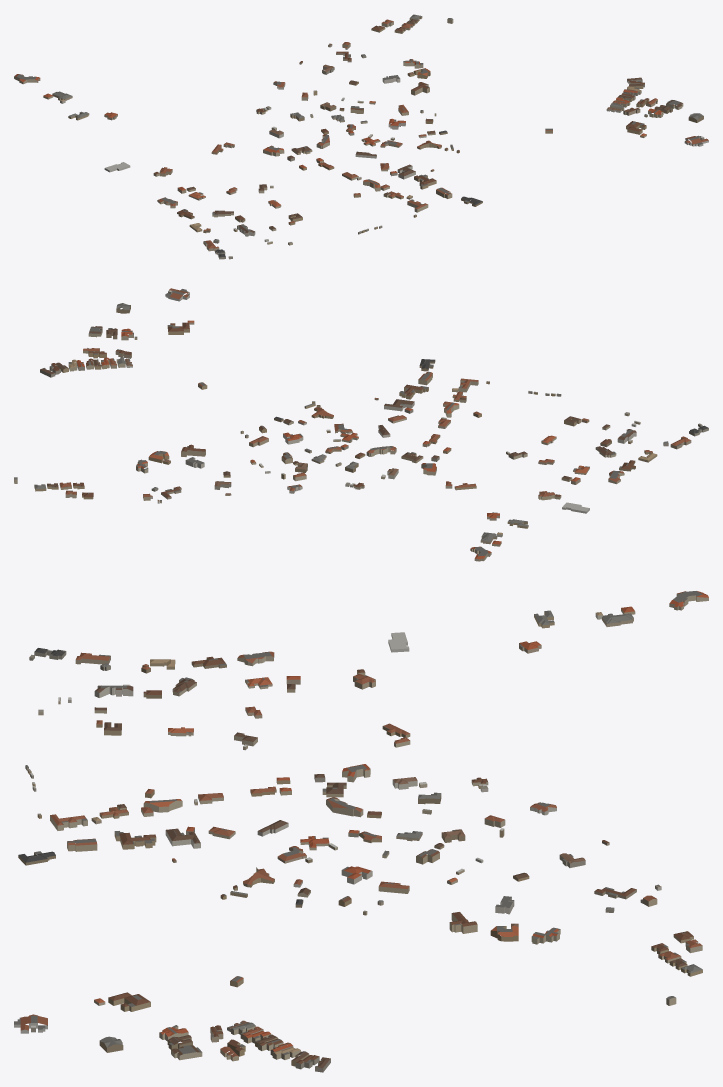
3 renders of one model, top to bottom at view 1: azimuth 30°, elevation 25°; view 2: azimuth 150°, elevation 25°; view 3: azimuth 270°, elevation 25°, orthographic. The views are drawn at different scales.
Parts seen in each view (by area): view 1: buildings_r1_c0_lod1; view 2: buildings_r1_c0_lod1; view 3: buildings_r1_c0_lod1.
Boxes of the visible parts, x1,y1,x2,y2 form: buildings_r1_c0_lod1: (14,14,708,259); buildings_r1_c0_lod1: (14,288,708,561); buildings_r1_c0_lod1: (14,591,708,1072).
Bounding box in the file's own units: 1139 × 104 × 818.
